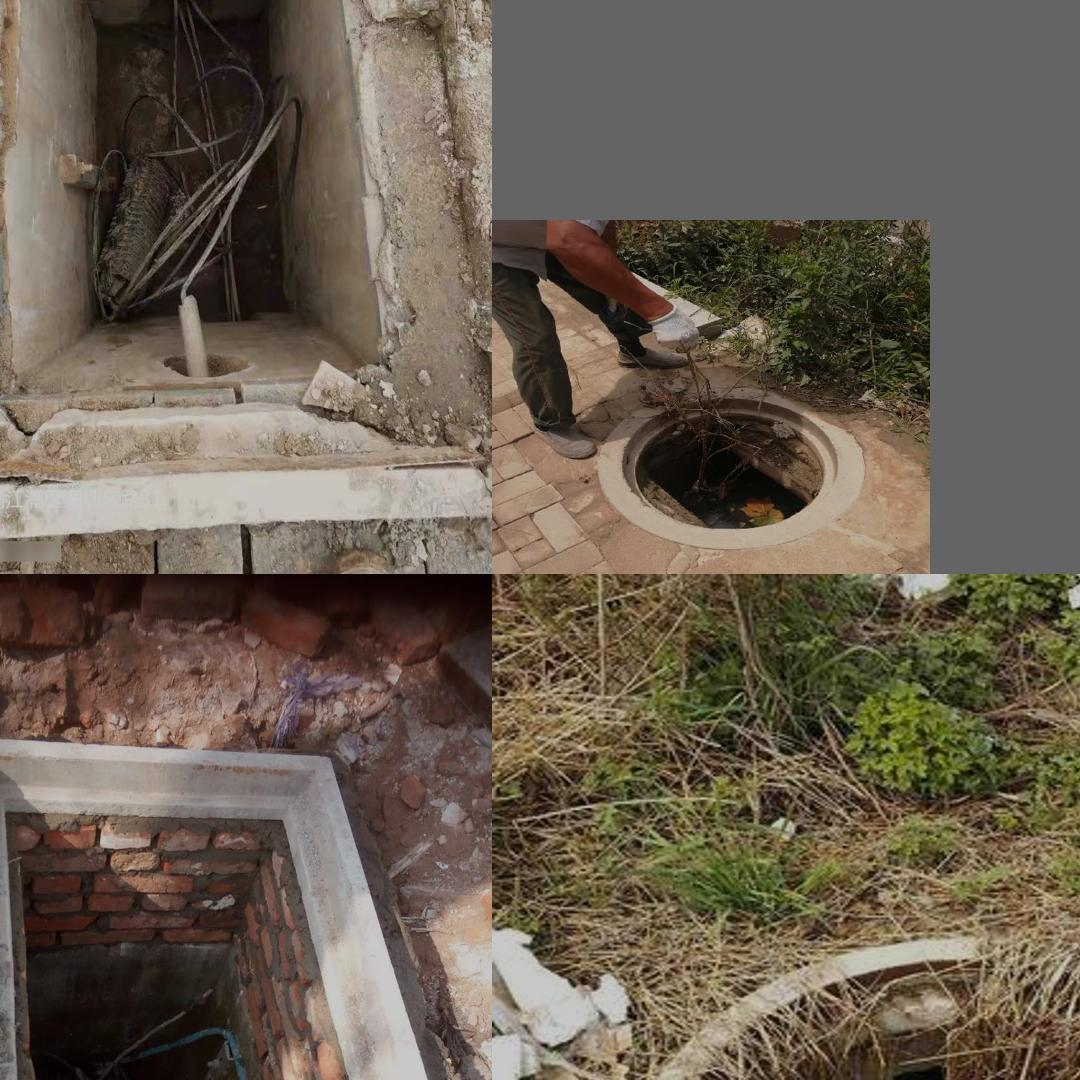lose: (0, 0, 492, 545), (0, 734, 492, 1080), (619, 951, 1080, 1080), (599, 388, 864, 547)
